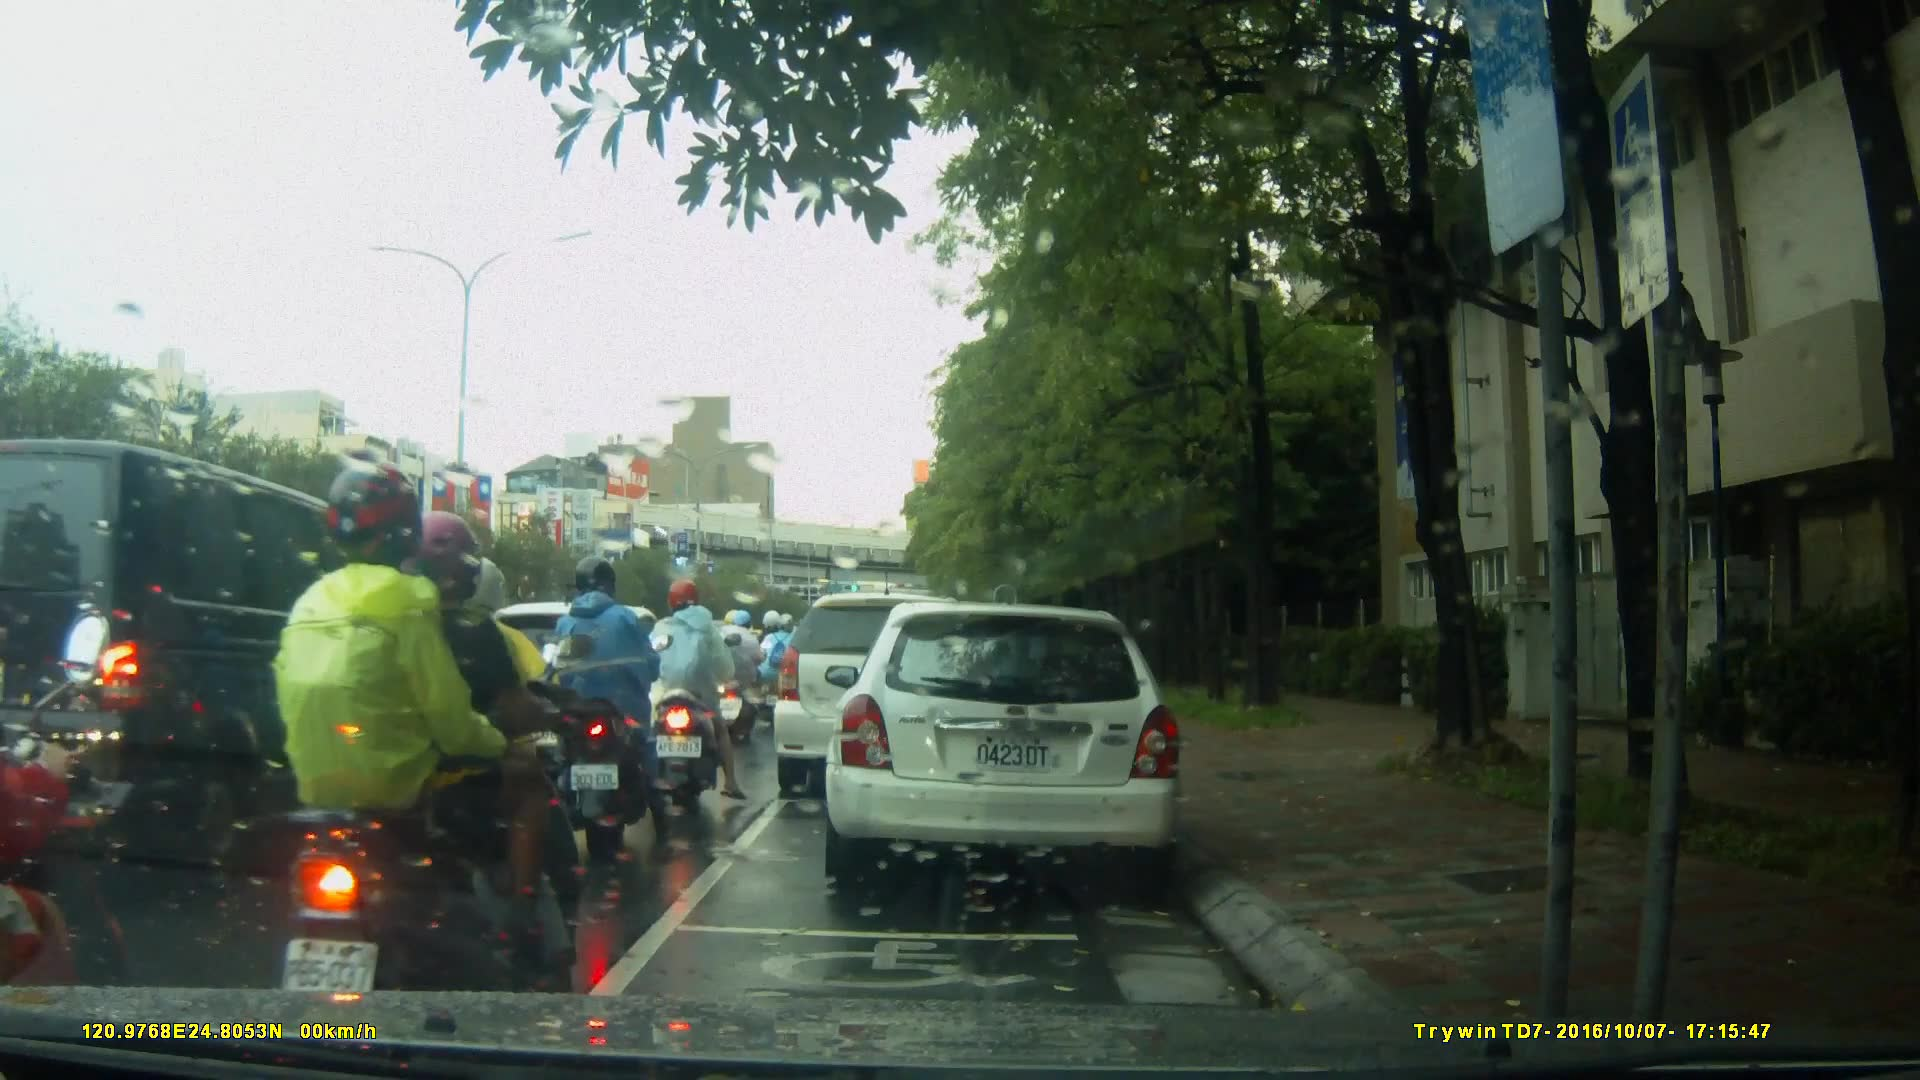rider: (258, 453, 590, 1053), (388, 557, 571, 930), (544, 559, 668, 855), (639, 581, 748, 806), (708, 611, 765, 734)
vehicle: (6, 431, 430, 916), (822, 604, 1188, 883), (397, 593, 670, 793), (774, 595, 995, 802)
